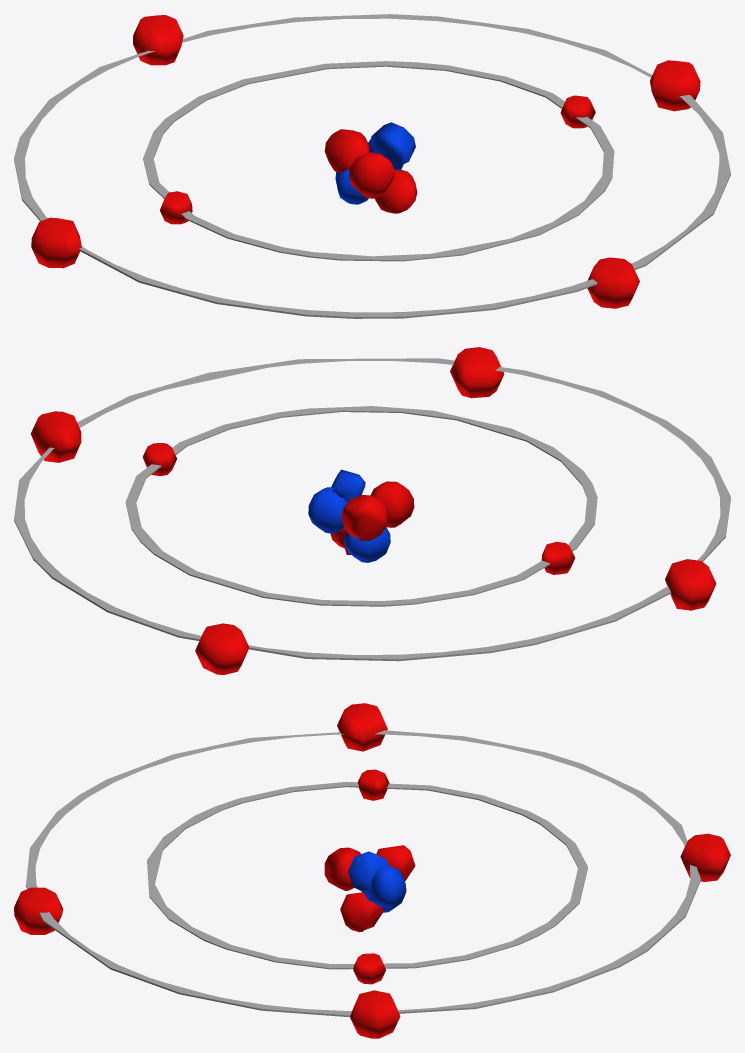
File: Carbon.fbx
3 renders of one model, top to bottom at view 1: azimuth 30°, elevation 25°; view 2: azimuth 150°, elevation 25°; view 3: azimuth 270°, elevation 25°, orthographic. The views are drawn at different scales.
Parts seen in each view (by area): view 1: Carbon; view 2: Carbon; view 3: Carbon.
Part boxes in pixels (x1,y1,x2,y2): Carbon: (14,14,730,318); Carbon: (14,347,730,674); Carbon: (14,703,730,1038).
Bounding box in the file's own units: 256 × 30.07 × 251.
